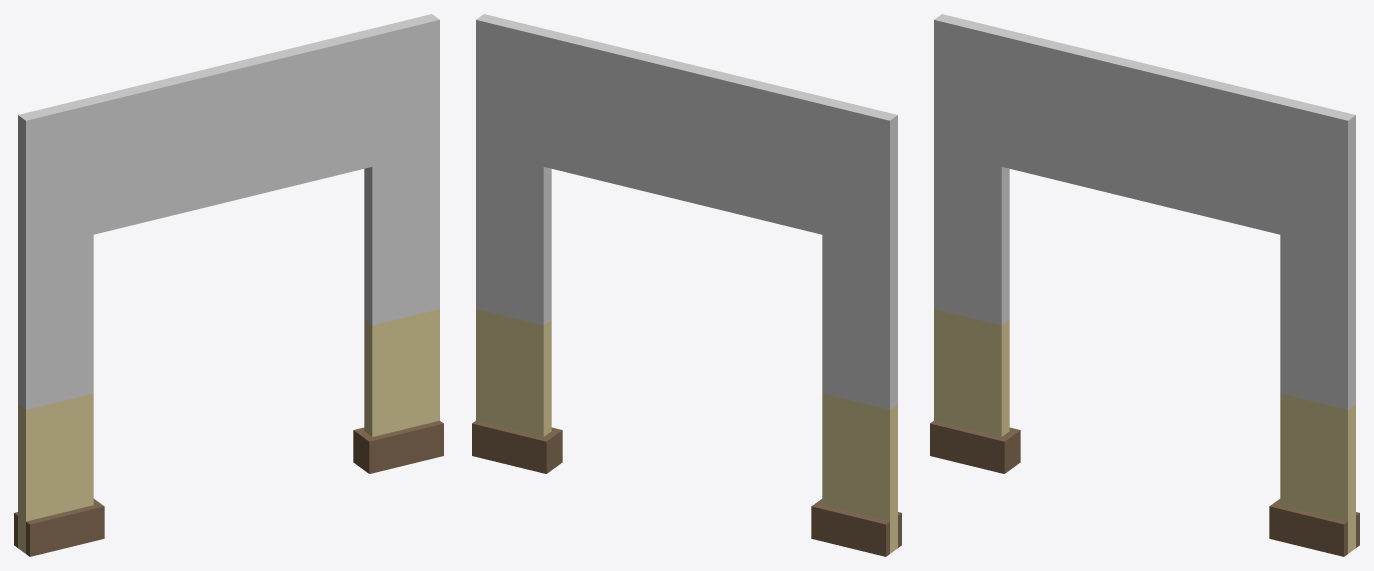
Rendered from Mesh_WallBaseboard2Colors_G5.fbx.
3 renders of one model, left to right at view 1: azimuth 30°, elevation 25°; view 2: azimuth 150°, elevation 25°; view 3: azimuth 330°, elevation 25°, orthographic.
Visible parts, largest first — view 1: Mesh_WallBaseboard2Colors_G5; view 2: Mesh_WallBaseboard2Colors_G5; view 3: Mesh_WallBaseboard2Colors_G5.
Part boxes in pixels (x1,y1,x2,y2): Mesh_WallBaseboard2Colors_G5: (14, 14, 443, 556); Mesh_WallBaseboard2Colors_G5: (472, 14, 901, 556); Mesh_WallBaseboard2Colors_G5: (930, 14, 1359, 556).
Bounding box in the file's own units: 3 × 3 × 0.2.
